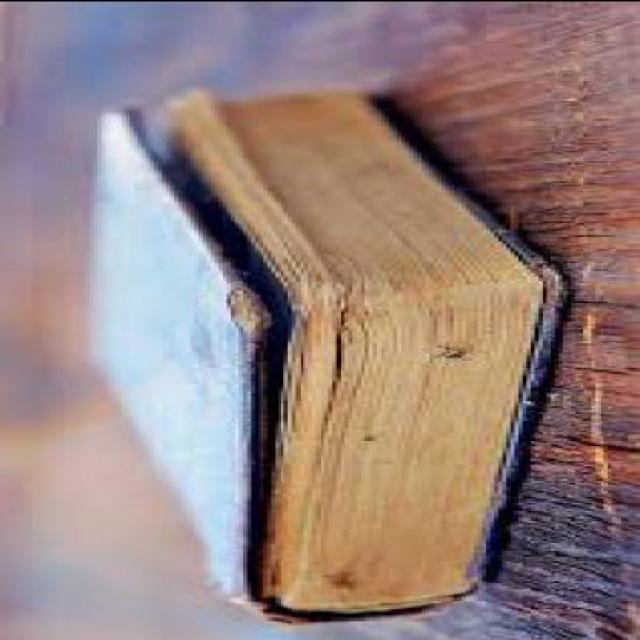PAPER: (81, 93, 564, 625)
